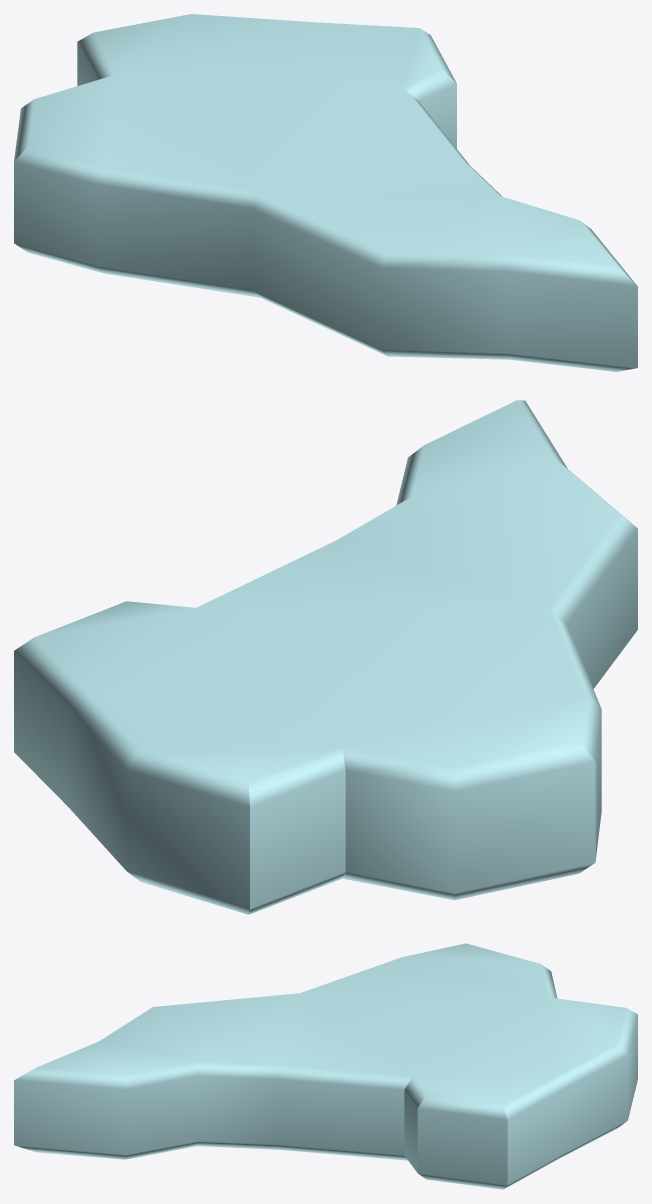
Rendered from ice_floe_medium_009.fbx.
3 views of the same model, one above another, from view 1: azimuth 30°, elevation 25°; view 2: azimuth 150°, elevation 25°; view 3: azimuth 270°, elevation 25° (orthographic). The views are drawn at different scales.
Parts seen in each view (by area): view 1: ice_floe_medium_009; view 2: ice_floe_medium_009; view 3: ice_floe_medium_009.
Part boxes in pixels (bbox=[...]): ice_floe_medium_009: bbox=[14, 14, 637, 371]; ice_floe_medium_009: bbox=[14, 400, 637, 914]; ice_floe_medium_009: bbox=[14, 943, 637, 1189].
Size of the model in its own units: 390 by 597 by 89.44.
